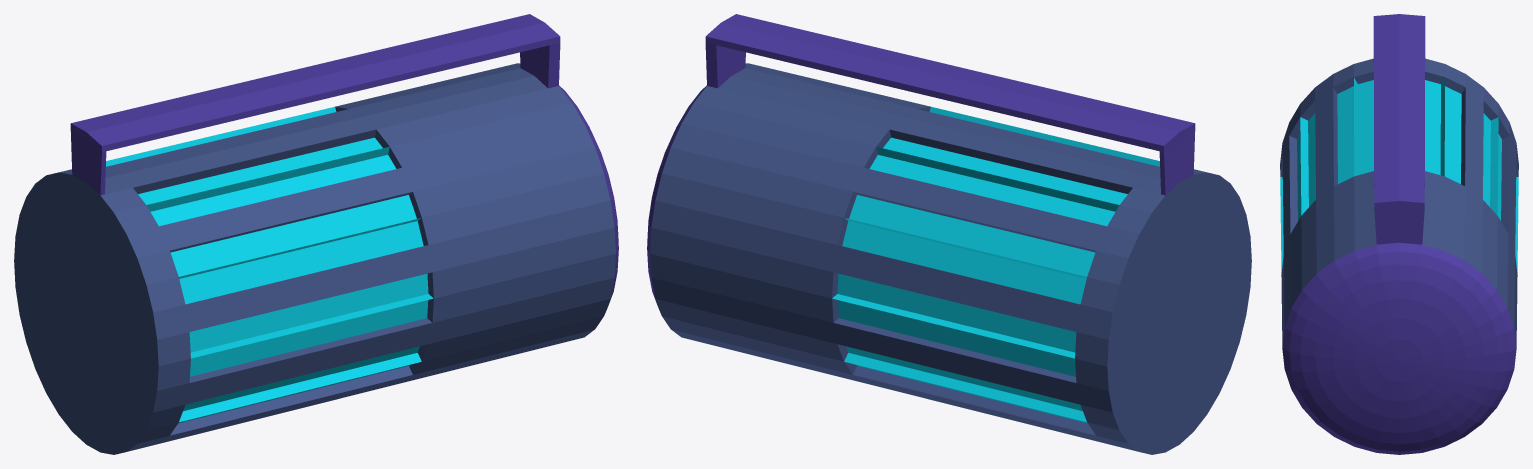
File: reaktor.fbx
3 views of the same model, side by side, from view 1: azimuth 30°, elevation 25°; view 2: azimuth 150°, elevation 25°; view 3: azimuth 270°, elevation 25° (orthographic). The views are drawn at different scales.
Parts seen in each view (by area): view 1: Sphere; view 2: Sphere; view 3: Sphere.
Boxes of the visible parts, x1,y1,x2,y2 form: Sphere: [14, 14, 618, 454]; Sphere: [647, 14, 1251, 454]; Sphere: [1280, 14, 1518, 454].
Bounding box in the file's own units: 390 × 239 × 200.
